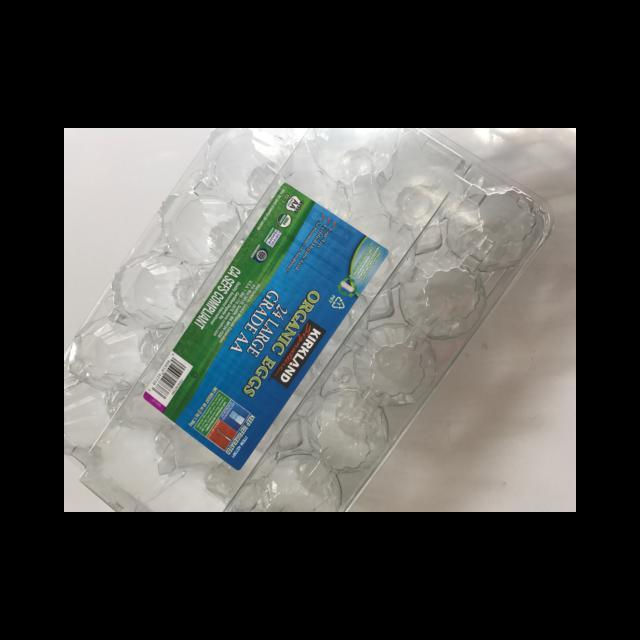plastic: (64, 128, 553, 511)
